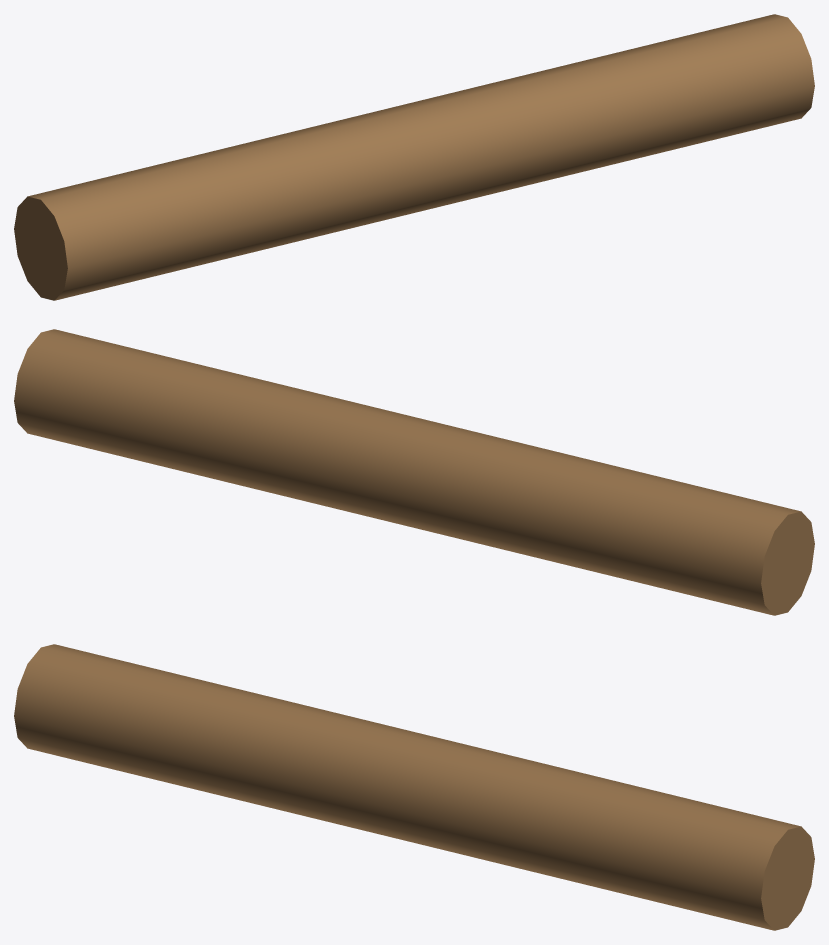
3 views of the same model, one above another, from view 1: azimuth 30°, elevation 25°; view 2: azimuth 150°, elevation 25°; view 3: azimuth 330°, elevation 25° (orthographic).
Parts seen in each view (by area): view 1: purlin-round-a@1.0.0; view 2: purlin-round-a@1.0.0; view 3: purlin-round-a@1.0.0.
Boxes of the visible parts, x1,y1,x2,y2 form: purlin-round-a@1.0.0: (14, 14, 814, 300); purlin-round-a@1.0.0: (14, 329, 814, 615); purlin-round-a@1.0.0: (14, 644, 814, 930).
Size of the model in its own units: 2 by 0.25 by 0.25.
